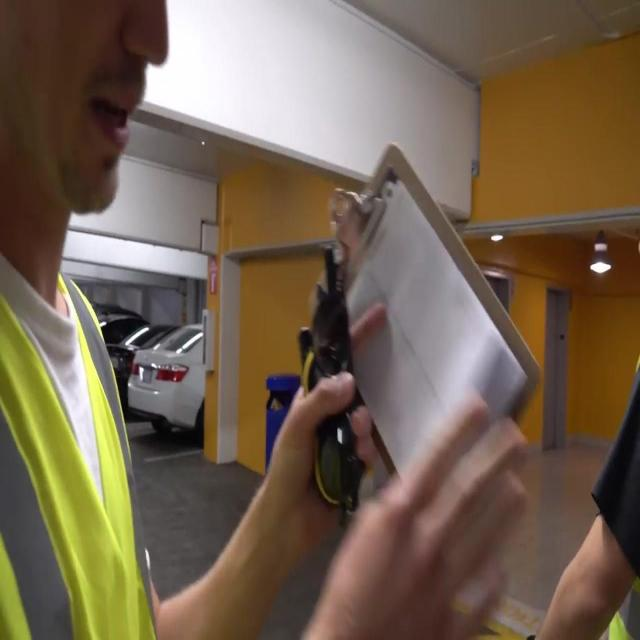Vest: (0, 262, 158, 638), (606, 356, 640, 639)
